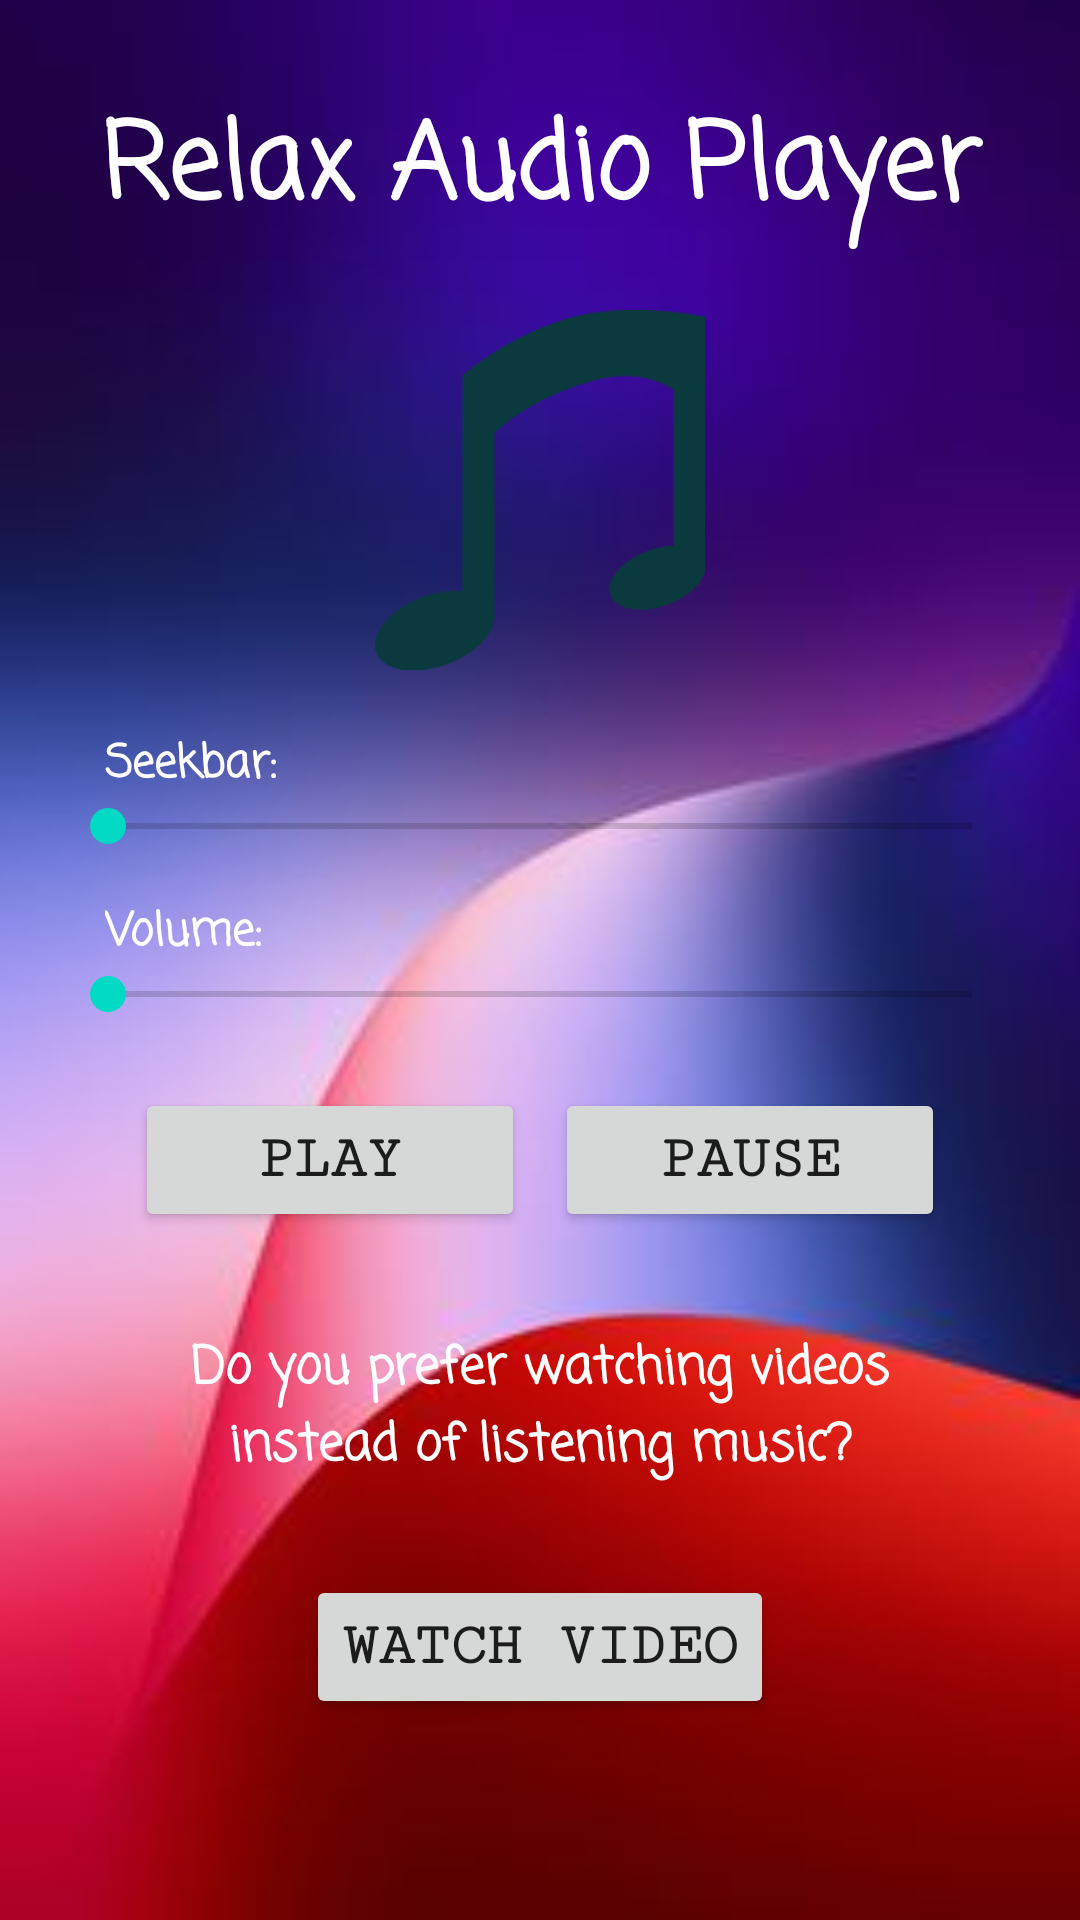

Screen size 1080*1920. Icon name, then its center in pixels as (x,y):
mus: (540,490)
